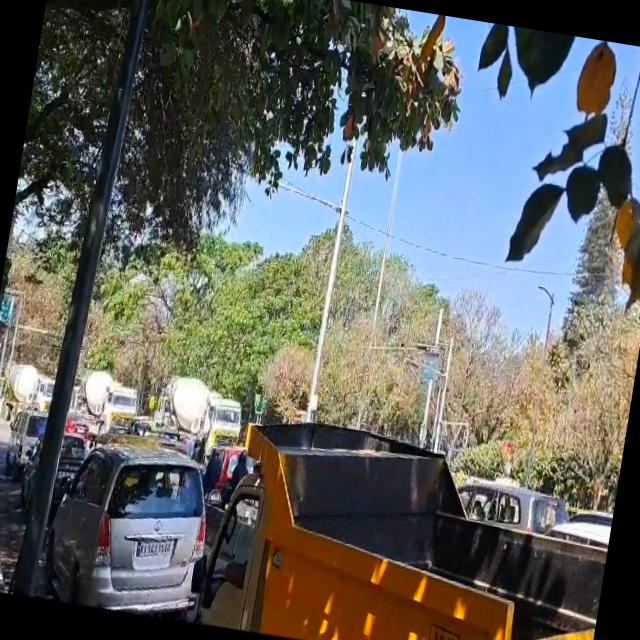cars: (38, 438, 220, 625)
